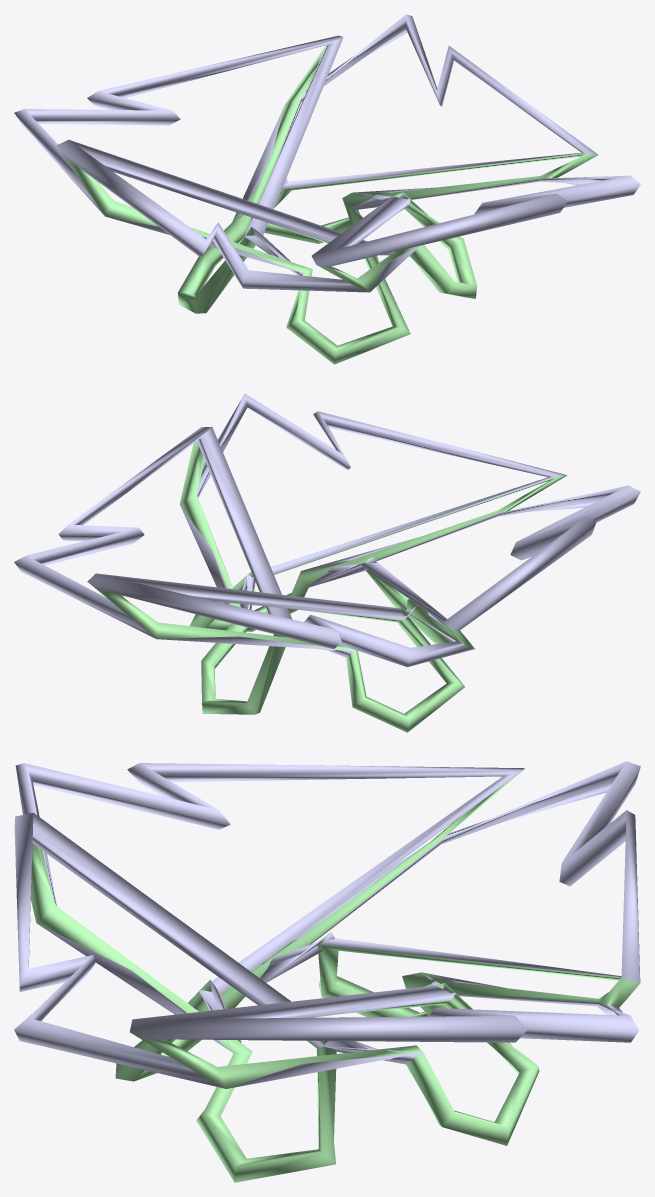
File: MapC.glb
3 views of the same model, one above another, from view 1: azimuth 30°, elevation 25°; view 2: azimuth 150°, elevation 25°; view 3: azimuth 270°, elevation 25° (orthographic). The views are drawn at different scales.
Visible parts, largest first — view 1: RegularMap_C; view 2: RegularMap_C; view 3: RegularMap_C.
Boxes of the visible parts, x1,y1,x2,y2 form: RegularMap_C: (14,14,640,364); RegularMap_C: (14,393,640,732); RegularMap_C: (14,761,640,1182).
Size of the model in its own units: 1.74 by 0.6642 by 1.74.
